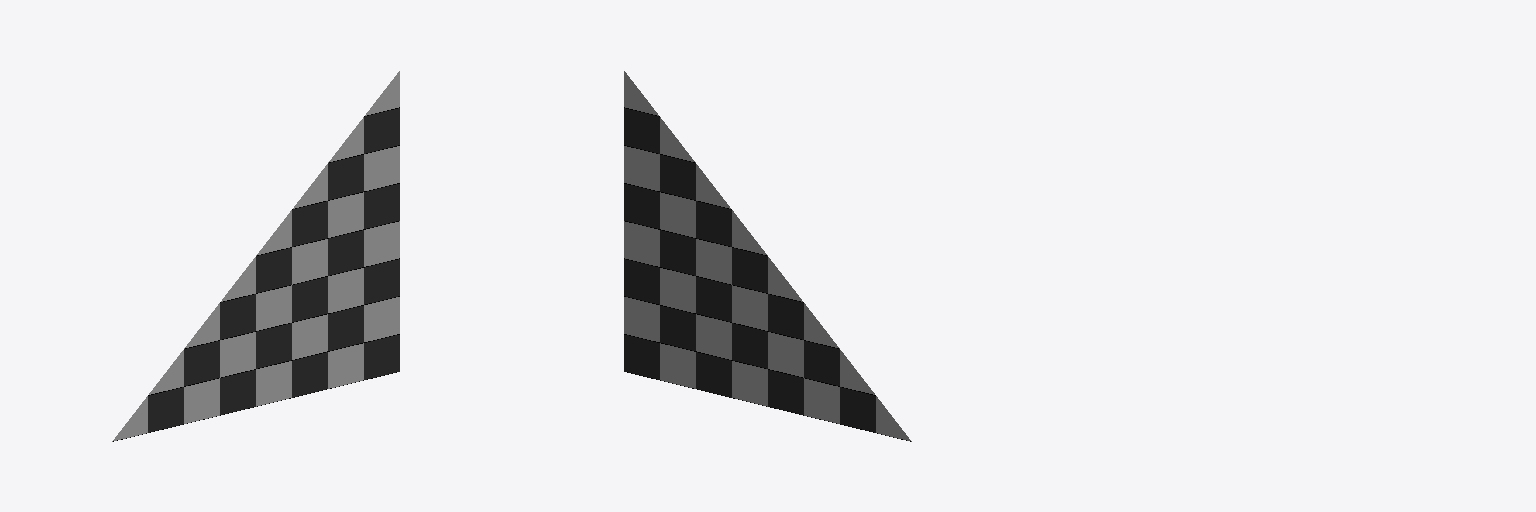
3 views of the same model, side by side, from view 1: azimuth 30°, elevation 25°; view 2: azimuth 150°, elevation 25°; view 3: azimuth 270°, elevation 25° (orthographic).
Parts seen in each view (by area): view 1: mesh01; view 2: mesh01; view 3: none.
Part boxes in pixels (left/top/right/bottom): mesh01: left=112, top=71, right=399, bottom=441; mesh01: left=624, top=71, right=911, bottom=441.
Size of the model in its own units: 1005 by 1005 by 0.0003.
1 materials, 1 textured.